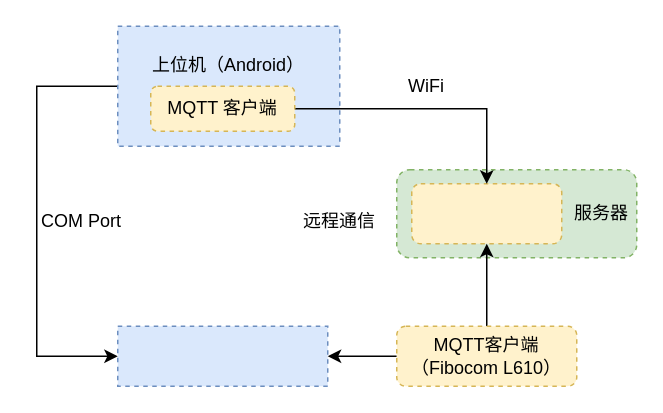
The diagram is 663 pixels wide and 413 high, and some of its shapes have lost their labels. The centre of each missing label's shape, as x and y in pixels:
"MQTT Broker" goes at (486,213).
"微控制器（STM32）" goes at (222,355).
